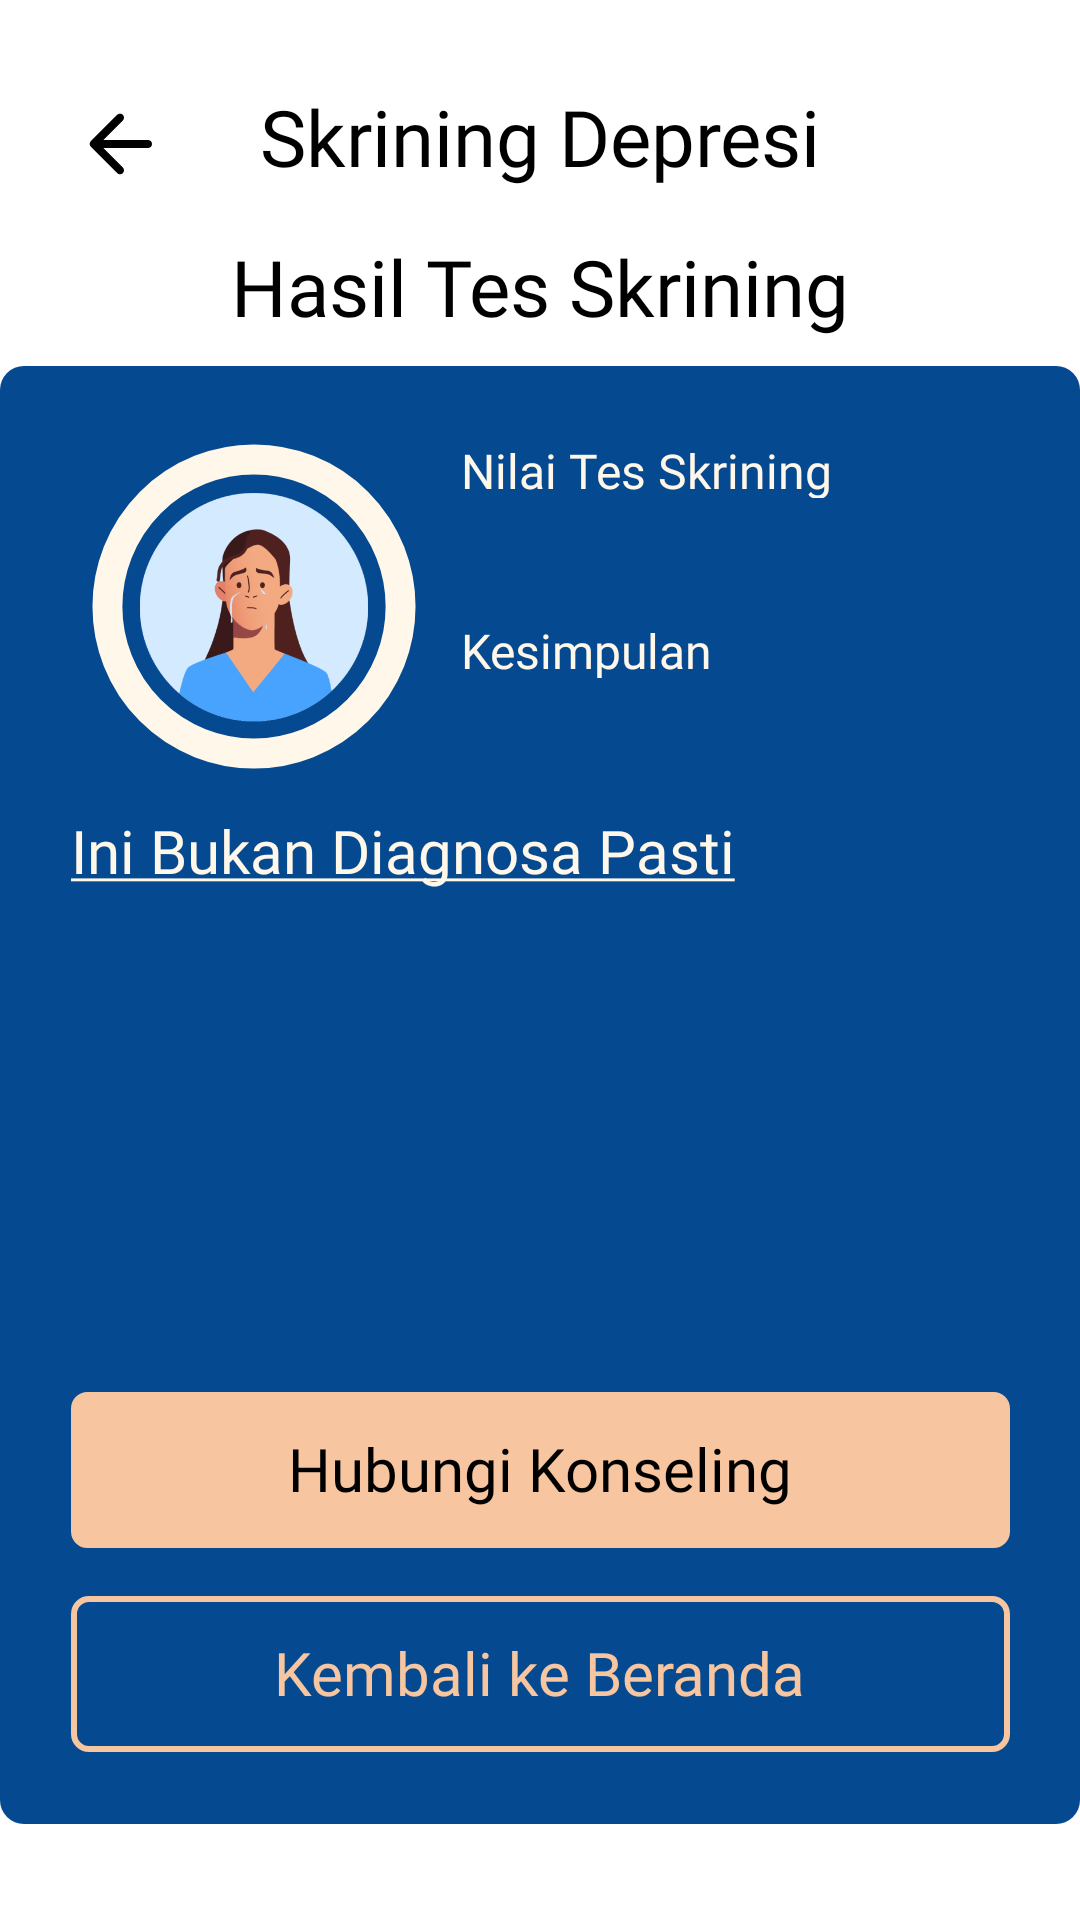

Icon bounding boxes for this 1080×1920 phone screenshot, format box=[x1, y1, x2, y2]:
arrow back: box=[89, 113, 152, 175]
